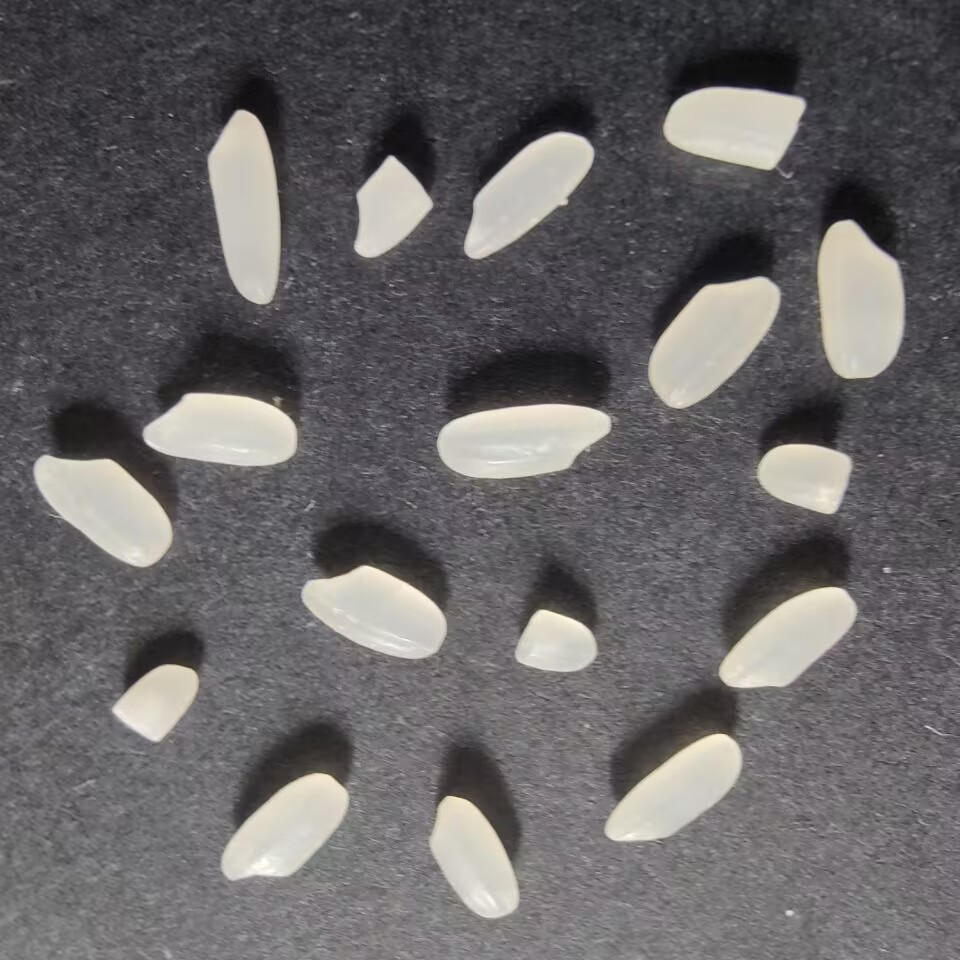broken: (663, 77, 814, 173), (346, 151, 436, 258), (105, 660, 201, 744), (756, 439, 856, 517), (508, 604, 600, 678)
rice: (457, 126, 599, 264), (643, 273, 783, 410), (30, 451, 177, 572), (207, 103, 292, 308), (601, 732, 747, 847), (813, 216, 911, 383), (217, 768, 353, 886), (296, 563, 450, 664), (718, 584, 861, 692), (430, 401, 619, 480), (425, 788, 528, 923), (138, 387, 300, 469)
